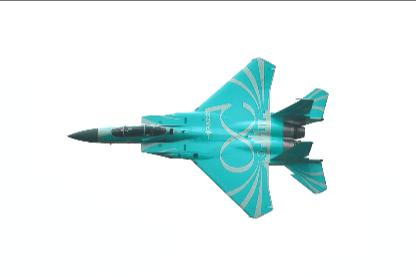F117: (68, 56, 330, 218)
